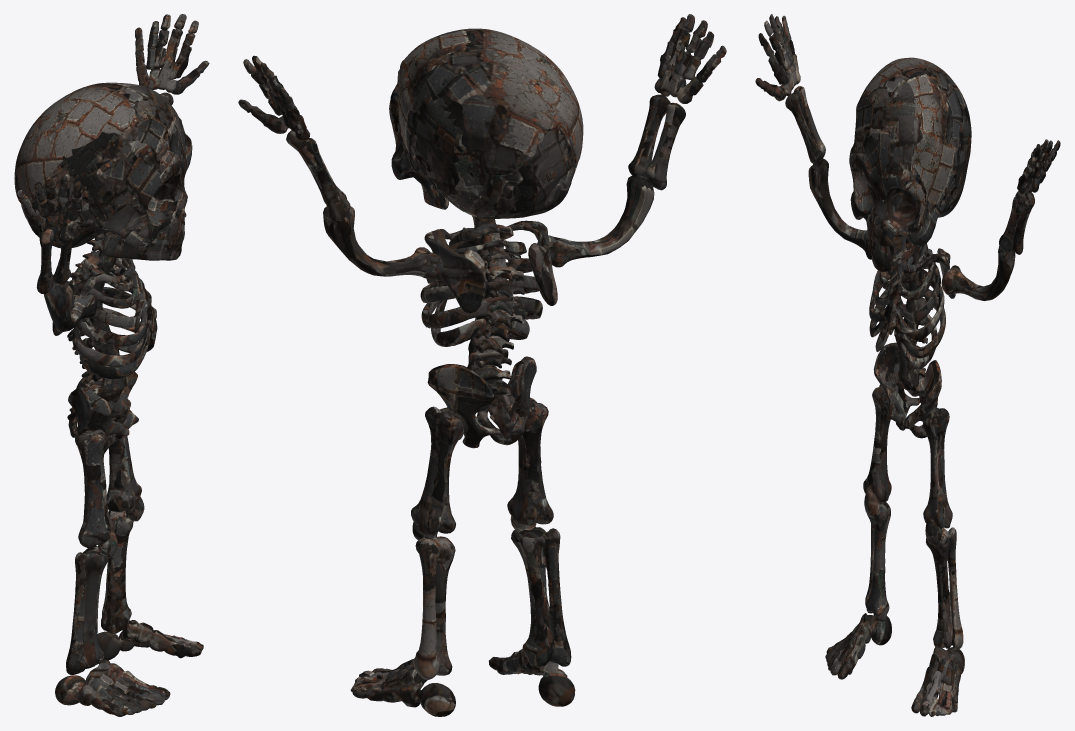
The model's file is Player_Skeleton_SideView.fbx.
The picture shows the model from 3 angles, left to right: view 1: azimuth 30°, elevation 25°; view 2: azimuth 150°, elevation 25°; view 3: azimuth 270°, elevation 25°; orthographic projection. The views are drawn at different scales.
Visible parts, largest first — view 1: Player_Skeleton_SideView; view 2: Player_Skeleton_SideView; view 3: Player_Skeleton_SideView.
Part boxes in pixels (<box>): Player_Skeleton_SideView: <box>14,14,209,716</box>; Player_Skeleton_SideView: <box>238,14,726,716</box>; Player_Skeleton_SideView: <box>755,14,1060,716</box>.
Bounding box in the file's own units: 105 × 190 × 87.83.
1 material, 1 textured.
